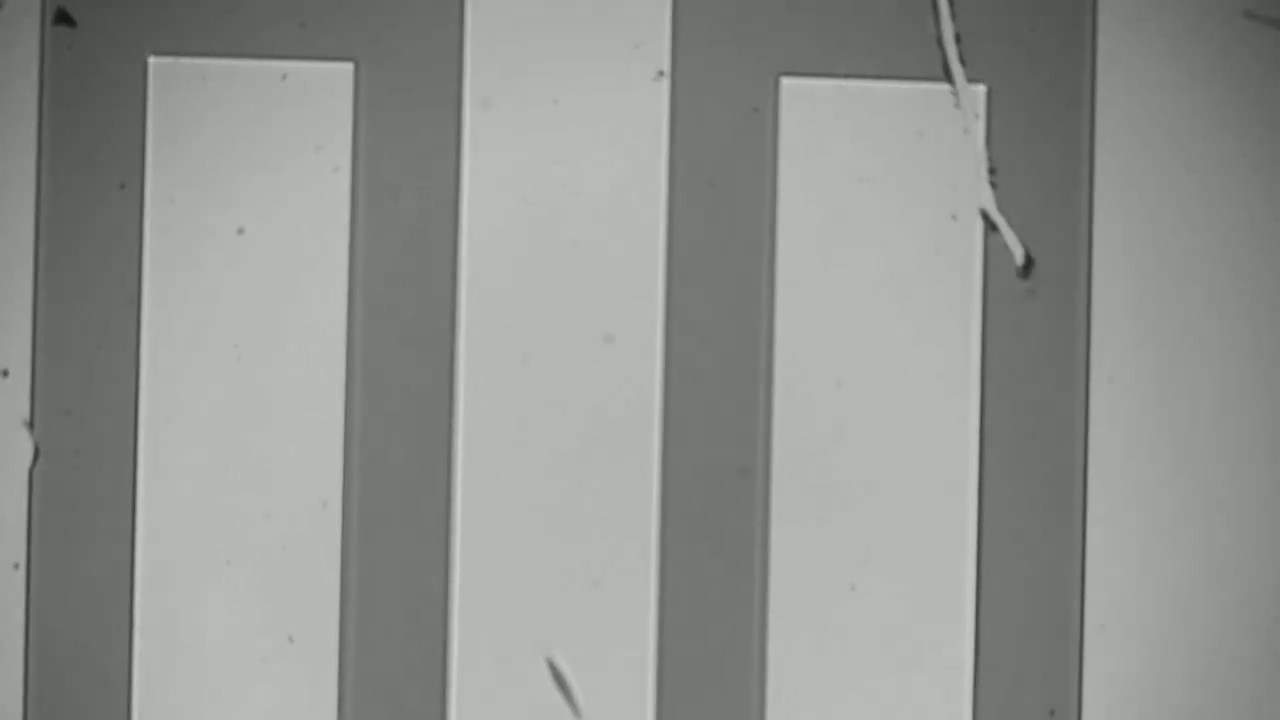Short_circuit: (907, 1, 989, 106)
